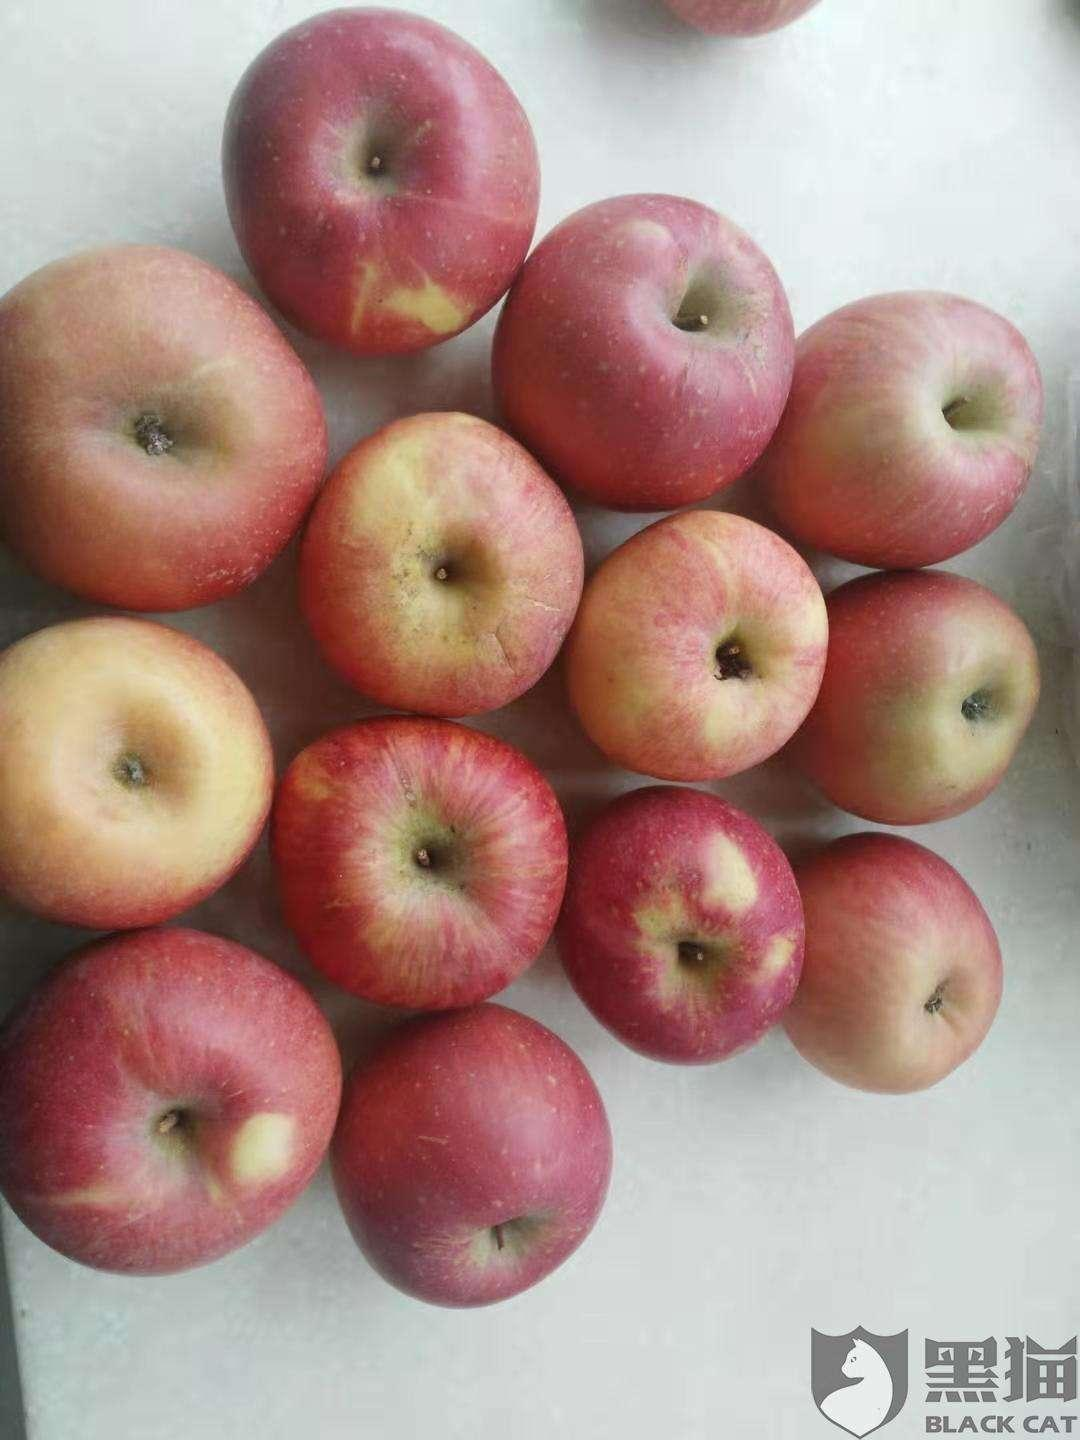apple: (1, 923, 341, 1280), (1, 237, 326, 608), (216, 5, 537, 358), (495, 190, 795, 514), (267, 718, 572, 1020), (326, 980, 607, 1307), (298, 406, 581, 725), (1, 616, 276, 934), (756, 291, 1046, 576), (560, 503, 829, 786), (558, 782, 801, 1069), (791, 566, 1040, 823), (778, 829, 1002, 1099)
